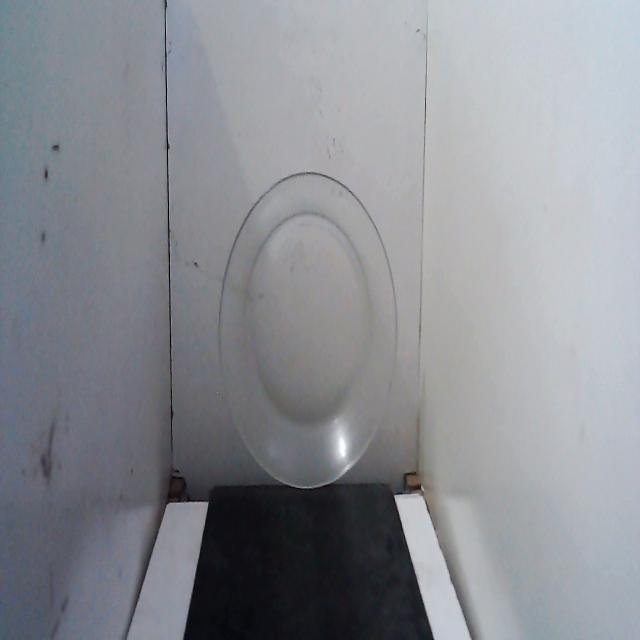vidro: (213, 160, 405, 507)
